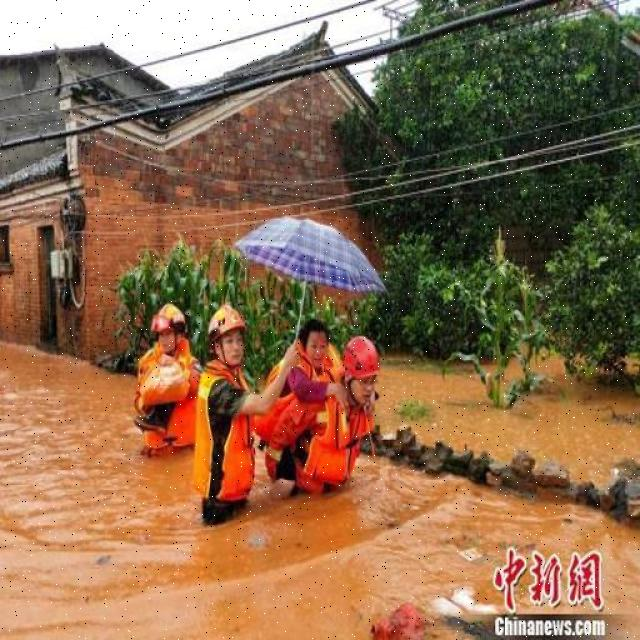rescuer: (182, 301, 264, 525), (136, 300, 202, 462), (331, 332, 382, 498)
